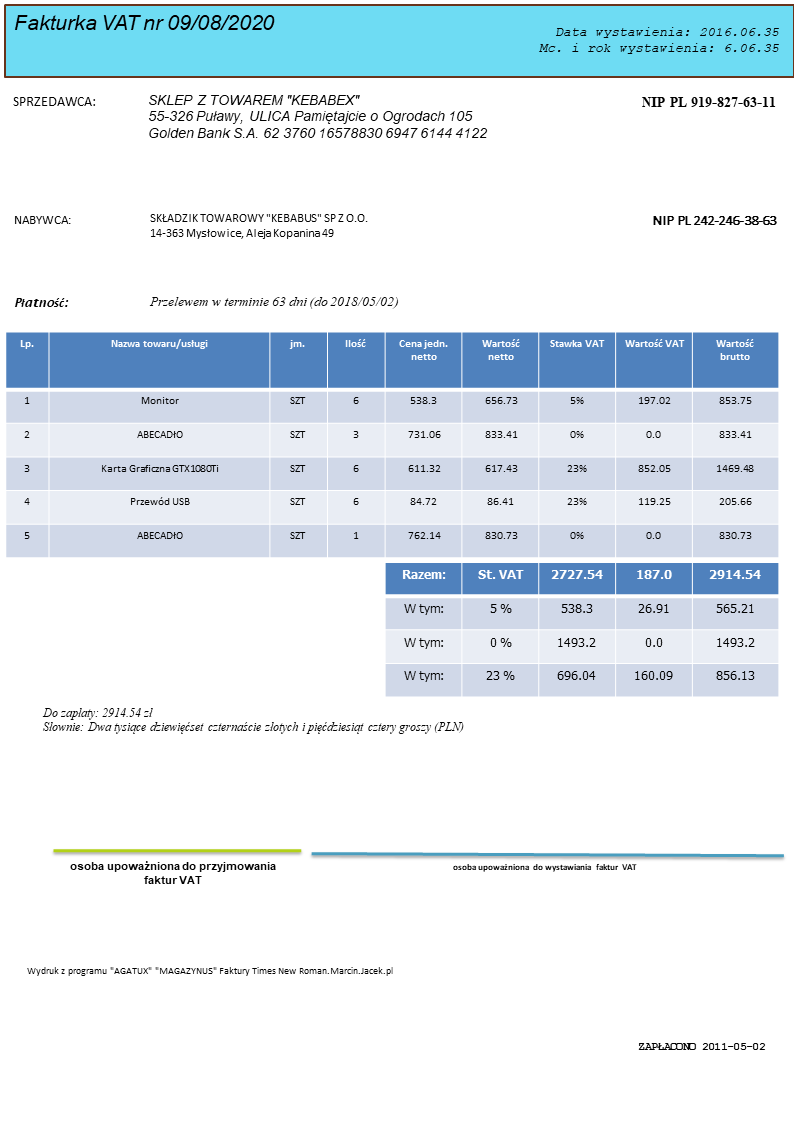Table: (4, 331, 780, 559), (384, 562, 779, 698)
TextBox: (146, 90, 489, 144), (40, 704, 466, 738), (535, 23, 783, 56), (146, 210, 370, 243), (10, 10, 279, 36), (68, 858, 278, 888), (24, 963, 396, 979), (148, 293, 400, 312), (638, 92, 777, 111), (451, 860, 639, 874), (649, 212, 779, 230), (635, 1039, 768, 1055), (10, 92, 97, 110), (12, 211, 71, 228), (11, 294, 68, 311)
